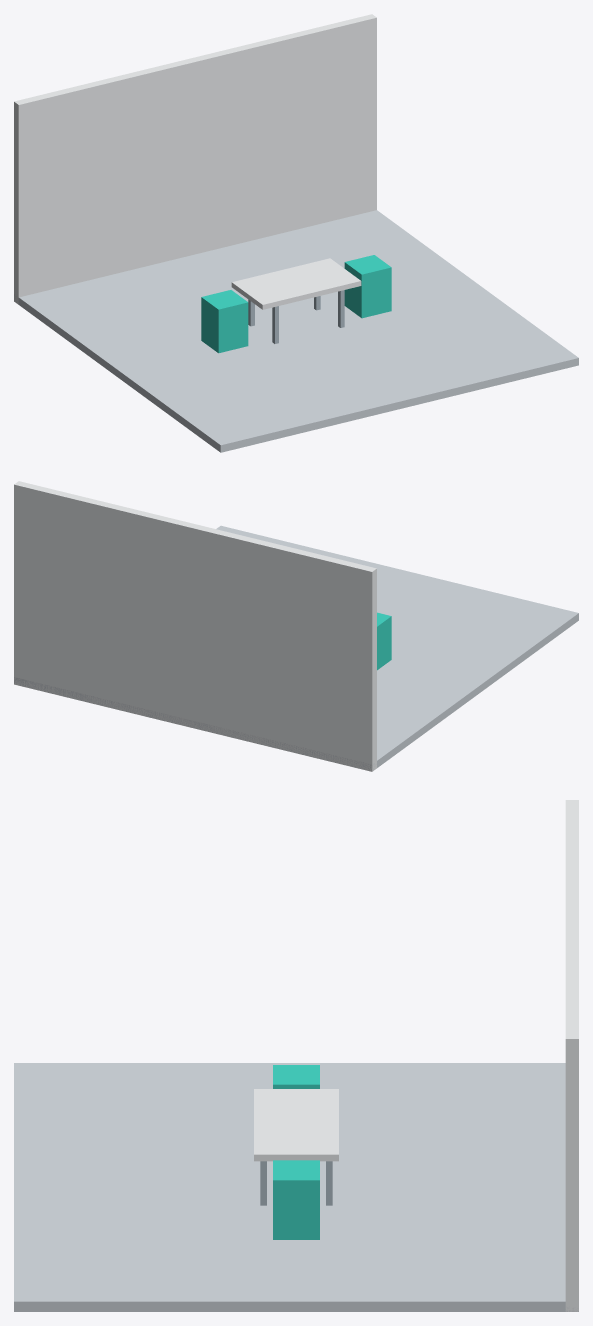
The picture shows the model from 3 angles, top to bottom: view 1: azimuth 30°, elevation 25°; view 2: azimuth 150°, elevation 25°; view 3: azimuth 270°, elevation 25°; orthographic projection. The views are drawn at different scales.
Visible parts, largest first — view 1: Exhibition Booth Concept; view 2: Exhibition Booth Concept; view 3: Exhibition Booth Concept.
Boxes of the visible parts, x1=… form: Exhibition Booth Concept: x1=14, y1=14, x2=578, y2=452; Exhibition Booth Concept: x1=14, y1=481, x2=578, y2=771; Exhibition Booth Concept: x1=14, y1=800, x2=578, y2=1311.
Size of the model in its own units: 6 by 3.2 by 6.
